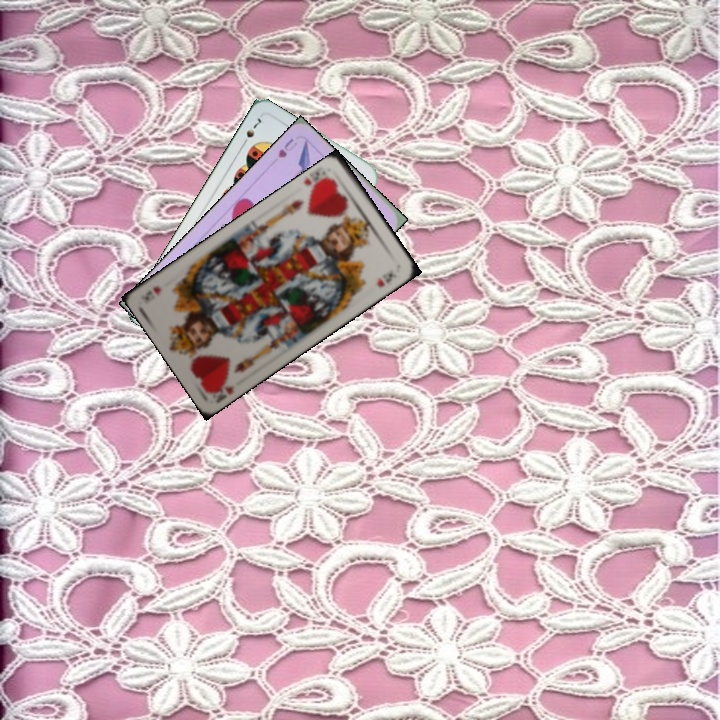HK: (300, 173, 333, 195), (212, 381, 237, 405)
HU: (274, 134, 300, 160)
S7: (237, 114, 264, 149)
